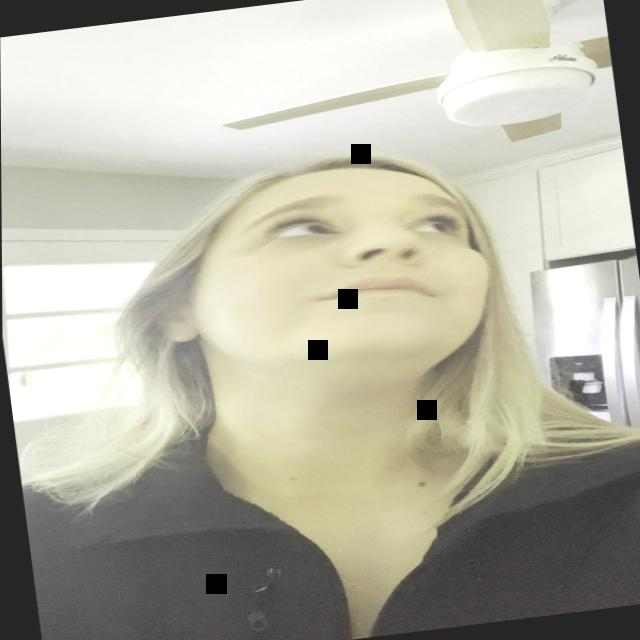NO-Mask: (173, 148, 508, 406)
